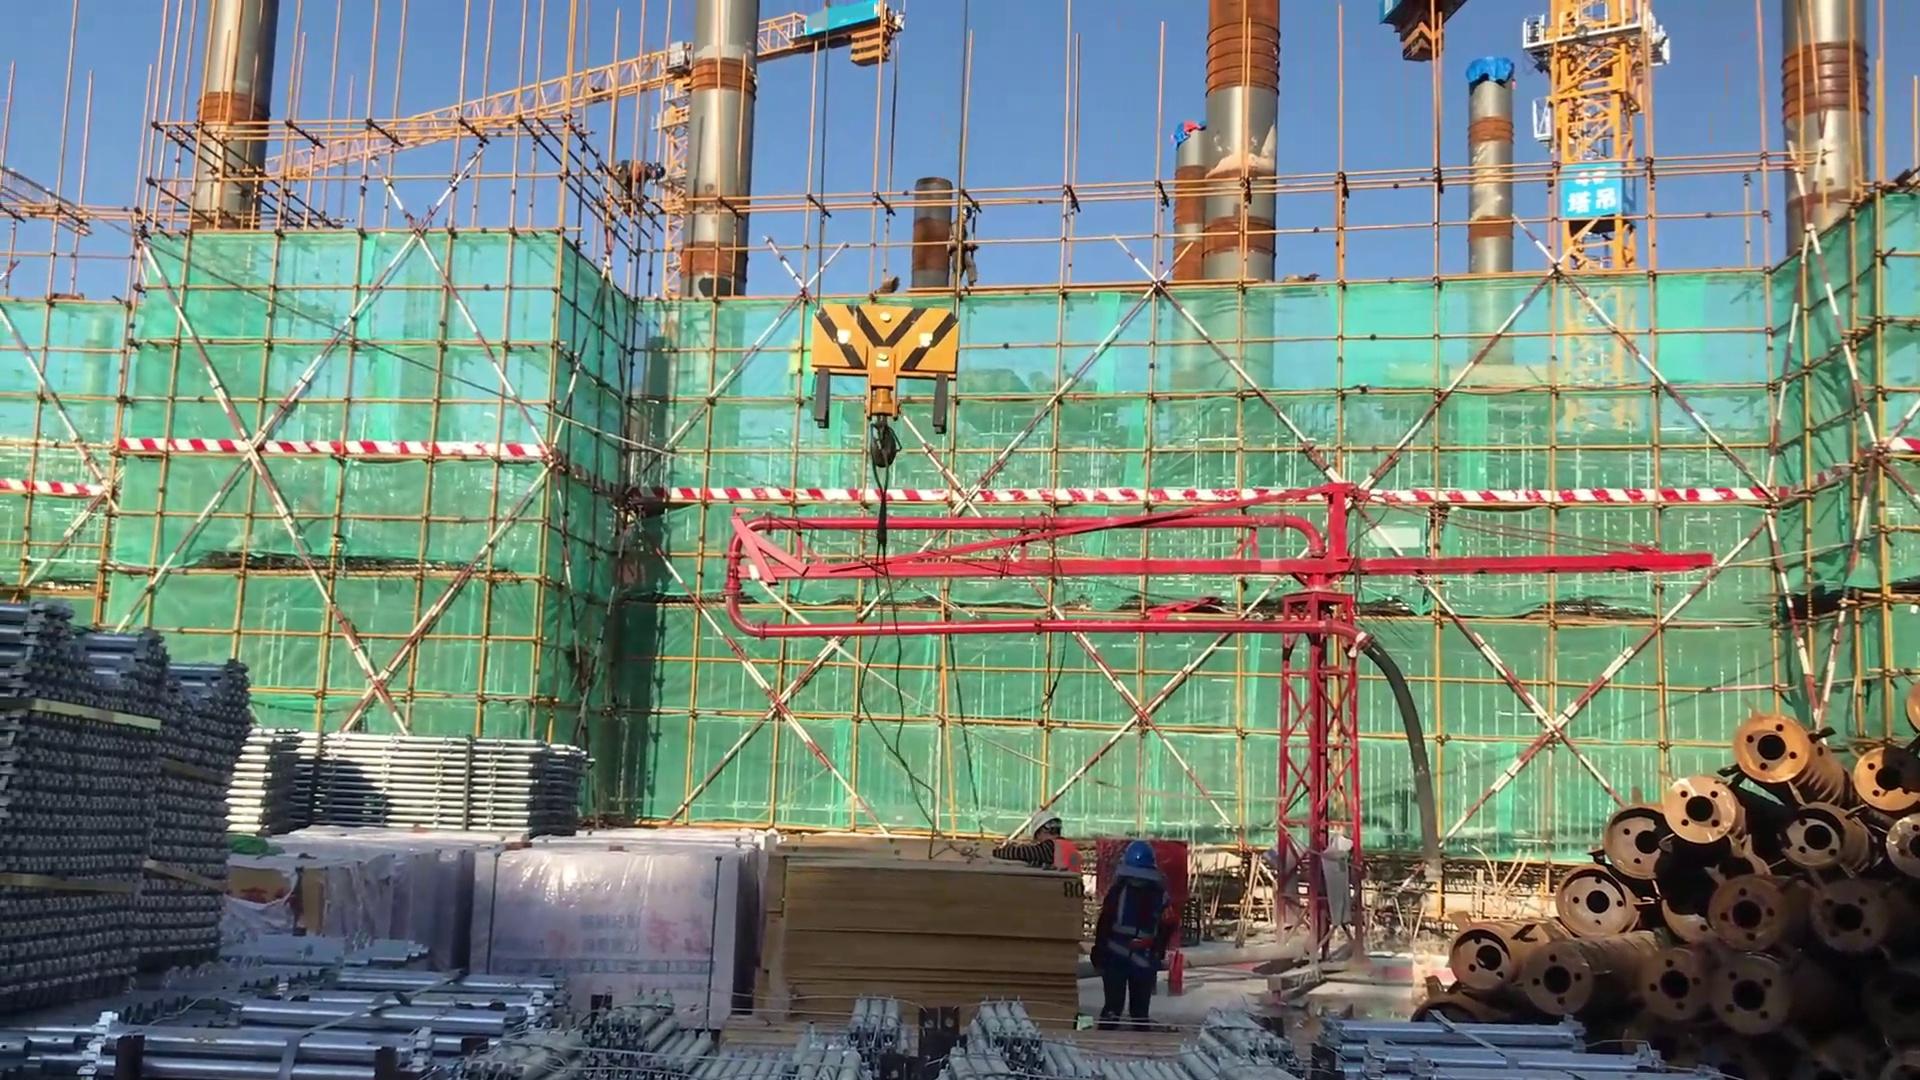board: (759, 837, 1078, 1035)
helmet: (1119, 831, 1161, 883), (1025, 804, 1064, 841), (650, 152, 667, 192)
hook: (776, 278, 997, 506)
person: (1092, 841, 1181, 1038), (963, 804, 1091, 885), (603, 154, 669, 198)
scaffold: (1, 592, 266, 988), (1, 935, 588, 1080), (826, 984, 1276, 1080), (236, 714, 581, 834), (583, 985, 878, 1080), (1306, 1012, 1662, 1080)
slogan: (1556, 164, 1631, 216)
vest: (1103, 878, 1169, 994), (1040, 837, 1090, 884)
